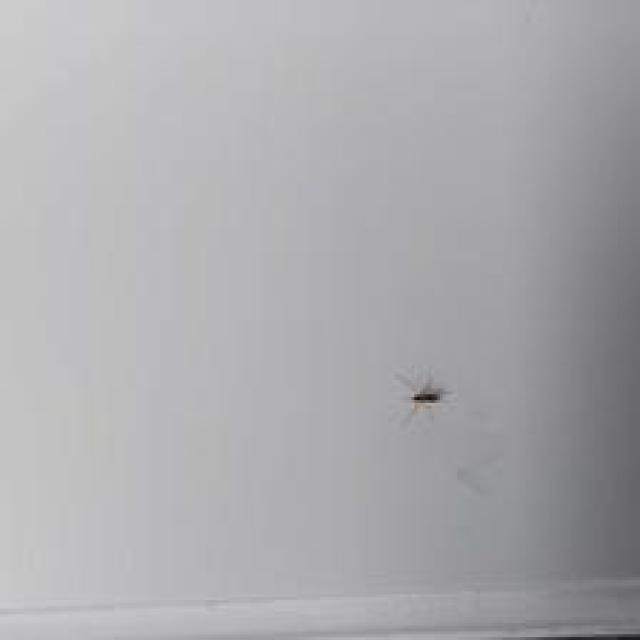Culex: (394, 370, 452, 421)
